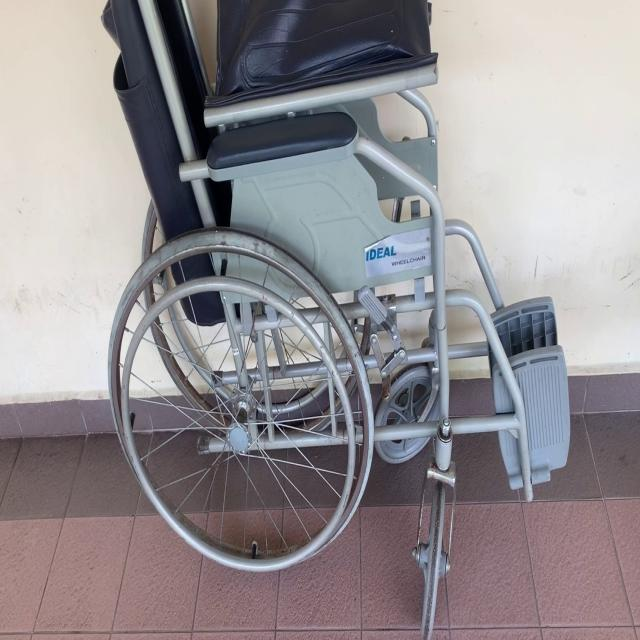wheelchair: (95, 0, 587, 639)
